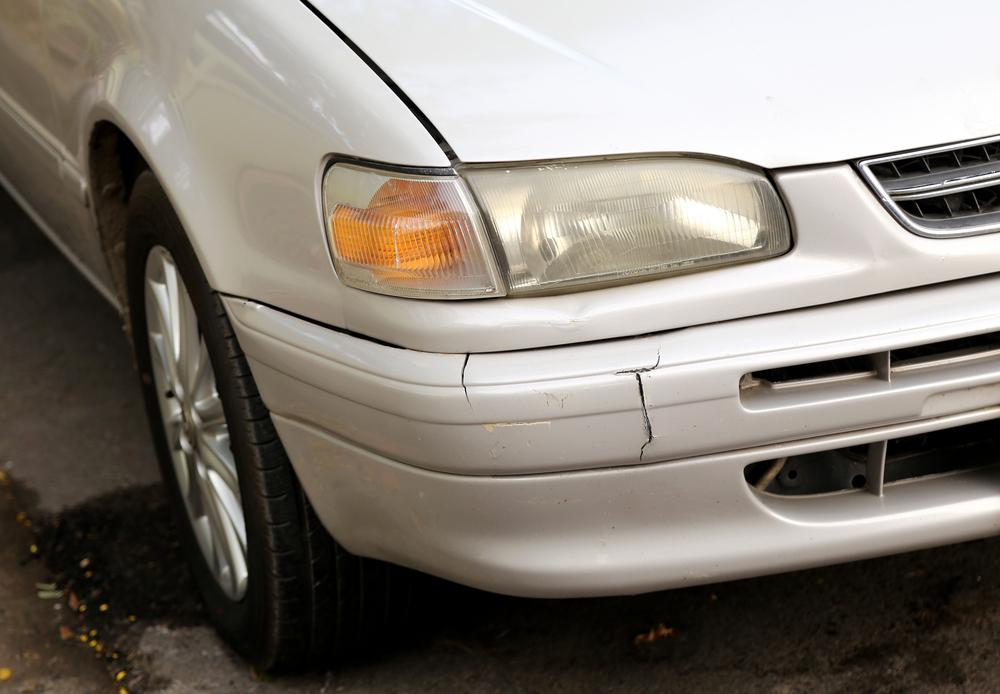crack: (614, 344, 662, 465), (460, 354, 474, 413)
